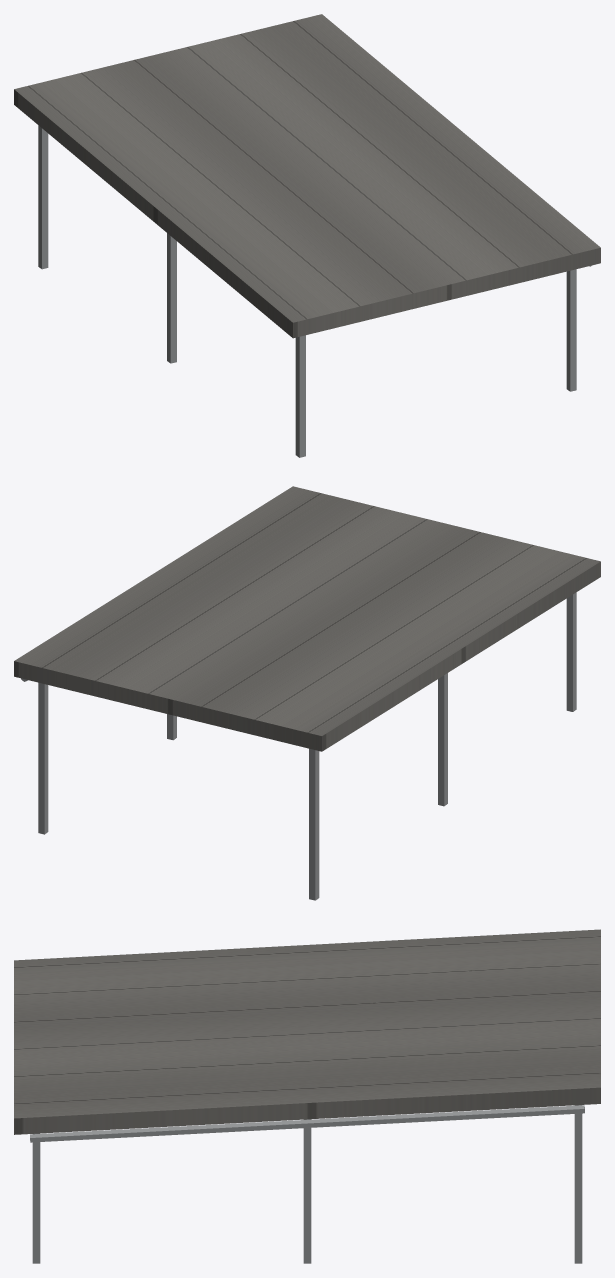
The model's file is SM_Molo_Tendone.fbx.
3 views of the same model, one above another, from view 1: azimuth 30°, elevation 25°; view 2: azimuth 150°, elevation 25°; view 3: azimuth 270°, elevation 25° (orthographic). The views are drawn at different scales.
Parts seen in each view (by area): view 1: SM_Molo_Tendone; view 2: SM_Molo_Tendone; view 3: SM_Molo_Tendone.
Boxes of the visible parts, left/top/right/bottom form: SM_Molo_Tendone: left=14, top=14, right=600, bottom=457; SM_Molo_Tendone: left=14, top=486, right=600, bottom=900; SM_Molo_Tendone: left=14, top=929, right=600, bottom=1263.
Size of what is drawn, in the model's own units: 581 by 910 by 314.
1 material, 1 textured.
